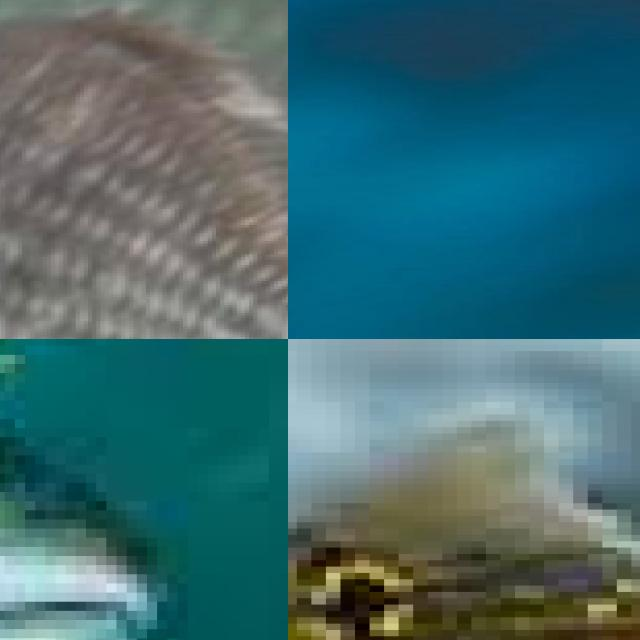fish: (0, 0, 288, 339), (0, 428, 279, 640)
